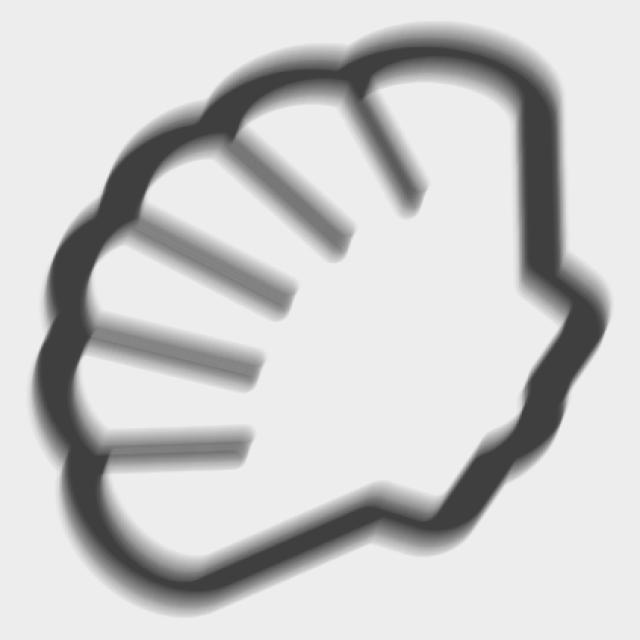shell: (16, 9, 624, 632)
